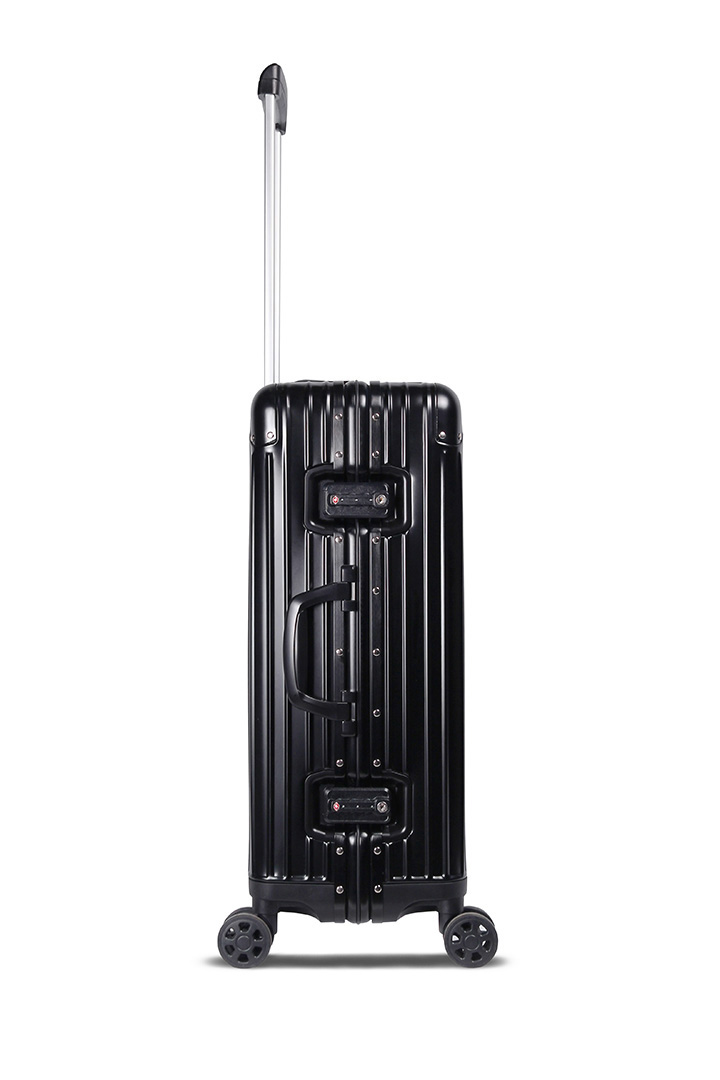suitcase: (218, 61, 499, 970)
